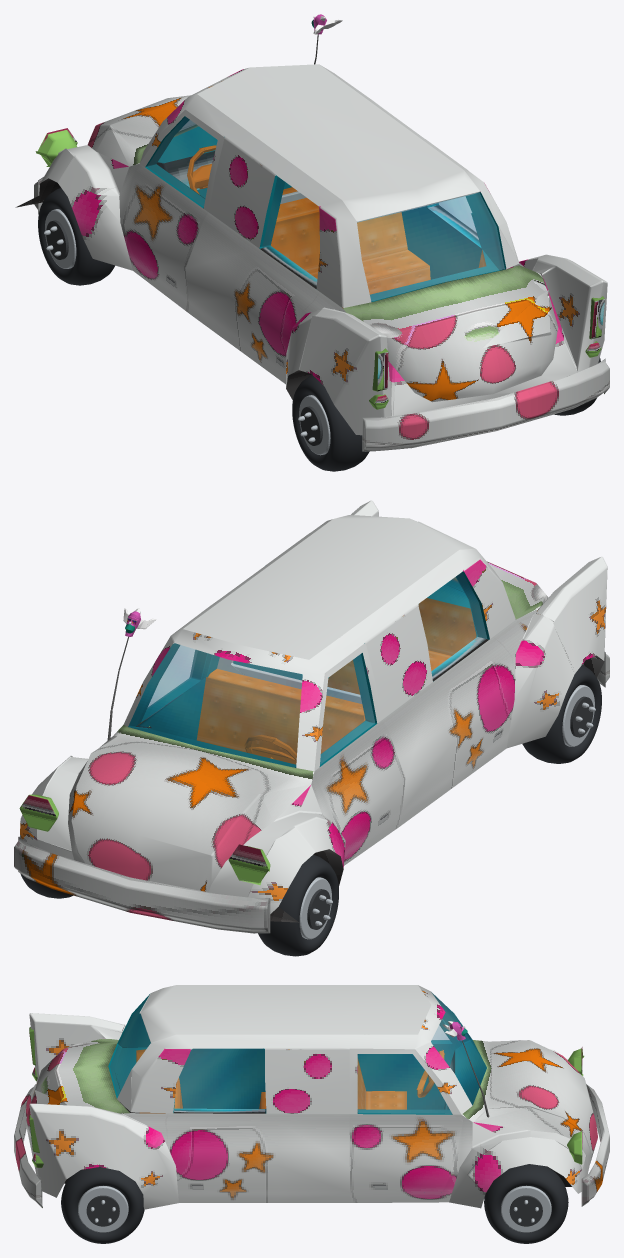
Rendered from car-cklimo.glb.
The picture shows the model from 3 angles, top to bottom: view 1: azimuth 30°, elevation 25°; view 2: azimuth 150°, elevation 25°; view 3: azimuth 270°, elevation 25°; orthographic projection. The views are drawn at different scales.
Parts seen in each view (by area): view 1: cKlimoShape.006, cKlimoShape.001, cKlimoShape.008, cKlimoShape.002, cKlimoShape.007, windShape6, cKlimoShape.005, DoorDRotShape.038, windShape2, DoorDWindShape.002, cKlimoShape.004, Rounded tire.062 (+7 smaller); view 2: cKlimoShape.006, cKlimoShape.004, cKlimoShape.008, cKlimoShape.002, windShape.001, cKlimoShape.005, DoorDRotShape.038, cKlimoShape.007, windShape2, DoorDWindShape.002, Rounded tire.060, DoorPRotShape.045 (+10 smaller); view 3: cKlimoShape.006, cKlimoShape.003, cKlimoShape.008, cKlimoShape.004, cKlimoShape.007, DoorPRotShape.043, cKlimoShape.001, windShape7, DoorPWindShape.002, Rounded tire.061, DoorDRotShape.040, Rounded tire.063 (+9 smaller).
Part boxes in pixels (box(x1,y1,x2,y2)): cKlimoShape.006: box(40, 65, 607, 435); cKlimoShape.001: box(343, 265, 609, 451); cKlimoShape.008: box(197, 64, 479, 222); cKlimoShape.002: box(119, 163, 540, 384); cKlimoShape.007: box(35, 116, 604, 391); windShape6: box(357, 192, 504, 300); cKlimoShape.005: box(187, 145, 486, 308); DoorDRotShape.038: box(124, 164, 208, 301); windShape2: box(262, 177, 319, 286); DoorDWindShape.002: box(147, 117, 216, 206); cKlimoShape.004: box(34, 95, 198, 214); Rounded tire.062: box(292, 375, 369, 471); cKlimoShape.006: box(19, 500, 607, 913); cKlimoShape.004: box(14, 725, 314, 933); cKlimoShape.008: box(183, 515, 475, 703); cKlimoShape.002: box(311, 608, 538, 865); windShape.001: box(128, 643, 302, 767); cKlimoShape.005: box(197, 598, 476, 764); DoorDRotShape.038: box(314, 720, 405, 853); cKlimoShape.007: box(19, 571, 489, 885); windShape2: box(419, 572, 486, 678); DoorDWindShape.002: box(320, 654, 374, 764); Rounded tire.060: box(258, 854, 338, 956); DoorPRotShape.045: box(128, 645, 211, 739); cKlimoShape.006: box(27, 985, 596, 1209); cKlimoShape.003: box(128, 1113, 472, 1202); cKlimoShape.008: box(139, 985, 431, 1042); cKlimoShape.004: box(462, 1040, 609, 1206); cKlimoShape.007: box(29, 992, 584, 1167); DoorPRotShape.043: box(349, 1114, 462, 1192); cKlimoShape.001: box(14, 1038, 129, 1207); windShape7: box(173, 1049, 265, 1111); DoorPWindShape.002: box(358, 1054, 451, 1113); Rounded tire.061: box(484, 1164, 568, 1243); DoorDRotShape.040: box(357, 1019, 461, 1109); Rounded tire.063: box(61, 1167, 144, 1243).
Size of the model in its own units: 2.45 by 2 by 5.21.
Materials: 14 (11 with a texture image).
